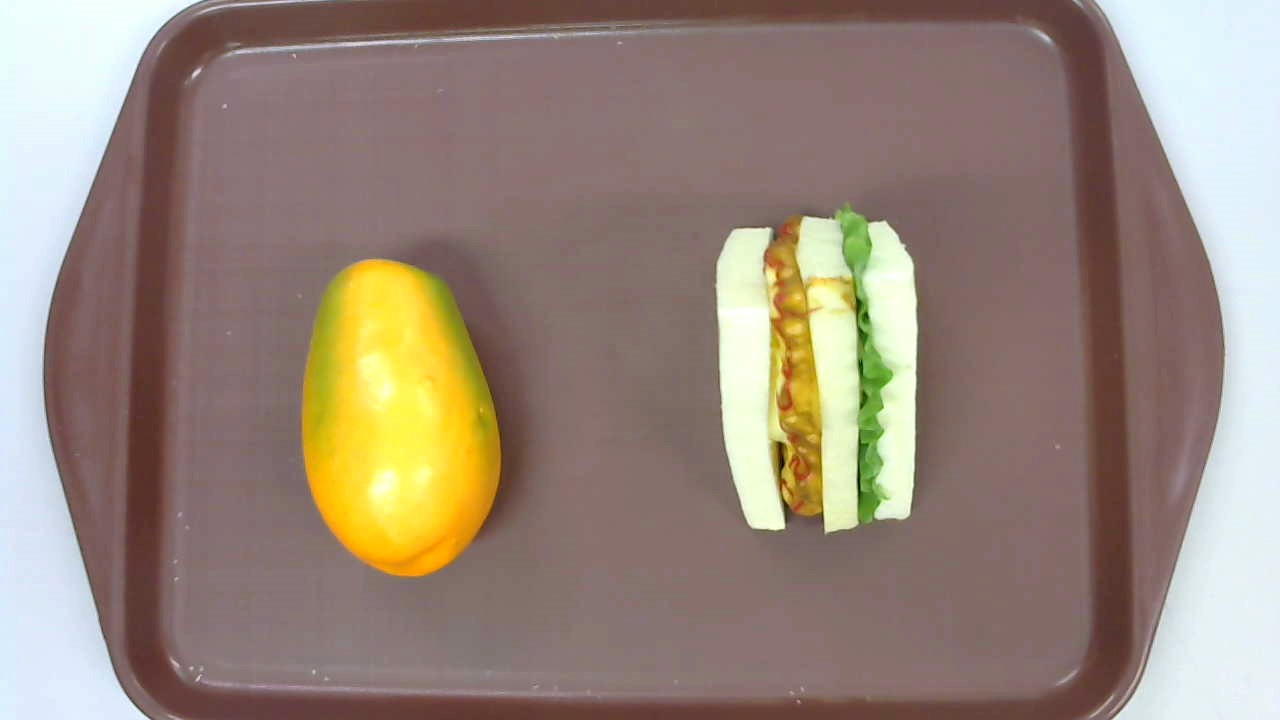papya: (300, 258, 501, 578)
sandwich: (714, 203, 918, 534)
